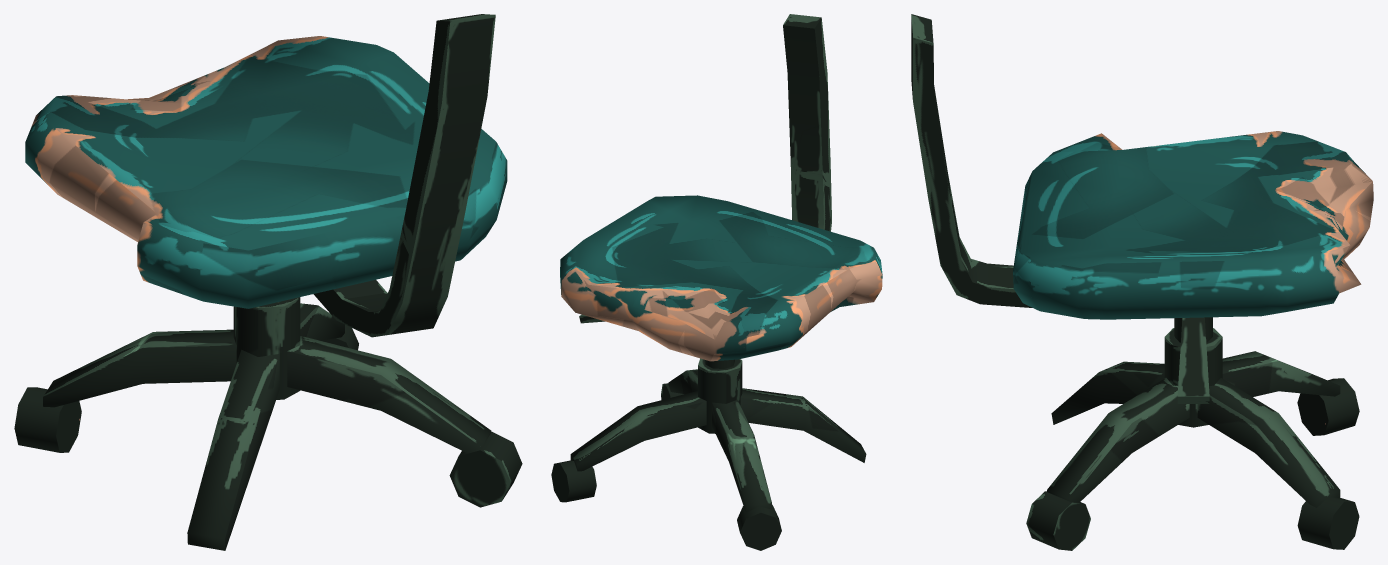
Rendered from Office_Chair_1_B.glb.
3 views of the same model, side by side, from view 1: azimuth 30°, elevation 25°; view 2: azimuth 150°, elevation 25°; view 3: azimuth 270°, elevation 25° (orthographic). The views are drawn at different scales.
Parts seen in each view (by area): view 1: Office_Chair_1_B; view 2: Office_Chair_1_B; view 3: Office_Chair_1_B.
Part boxes in pixels (box(x1,y1,x2,y2)): Office_Chair_1_B: box(14, 14, 522, 550); Office_Chair_1_B: box(551, 14, 882, 550); Office_Chair_1_B: box(911, 14, 1373, 550).
Bounding box in the file's own units: 0.6355 × 0.8922 × 0.7783.
Materials: 1 (1 with a texture image).
